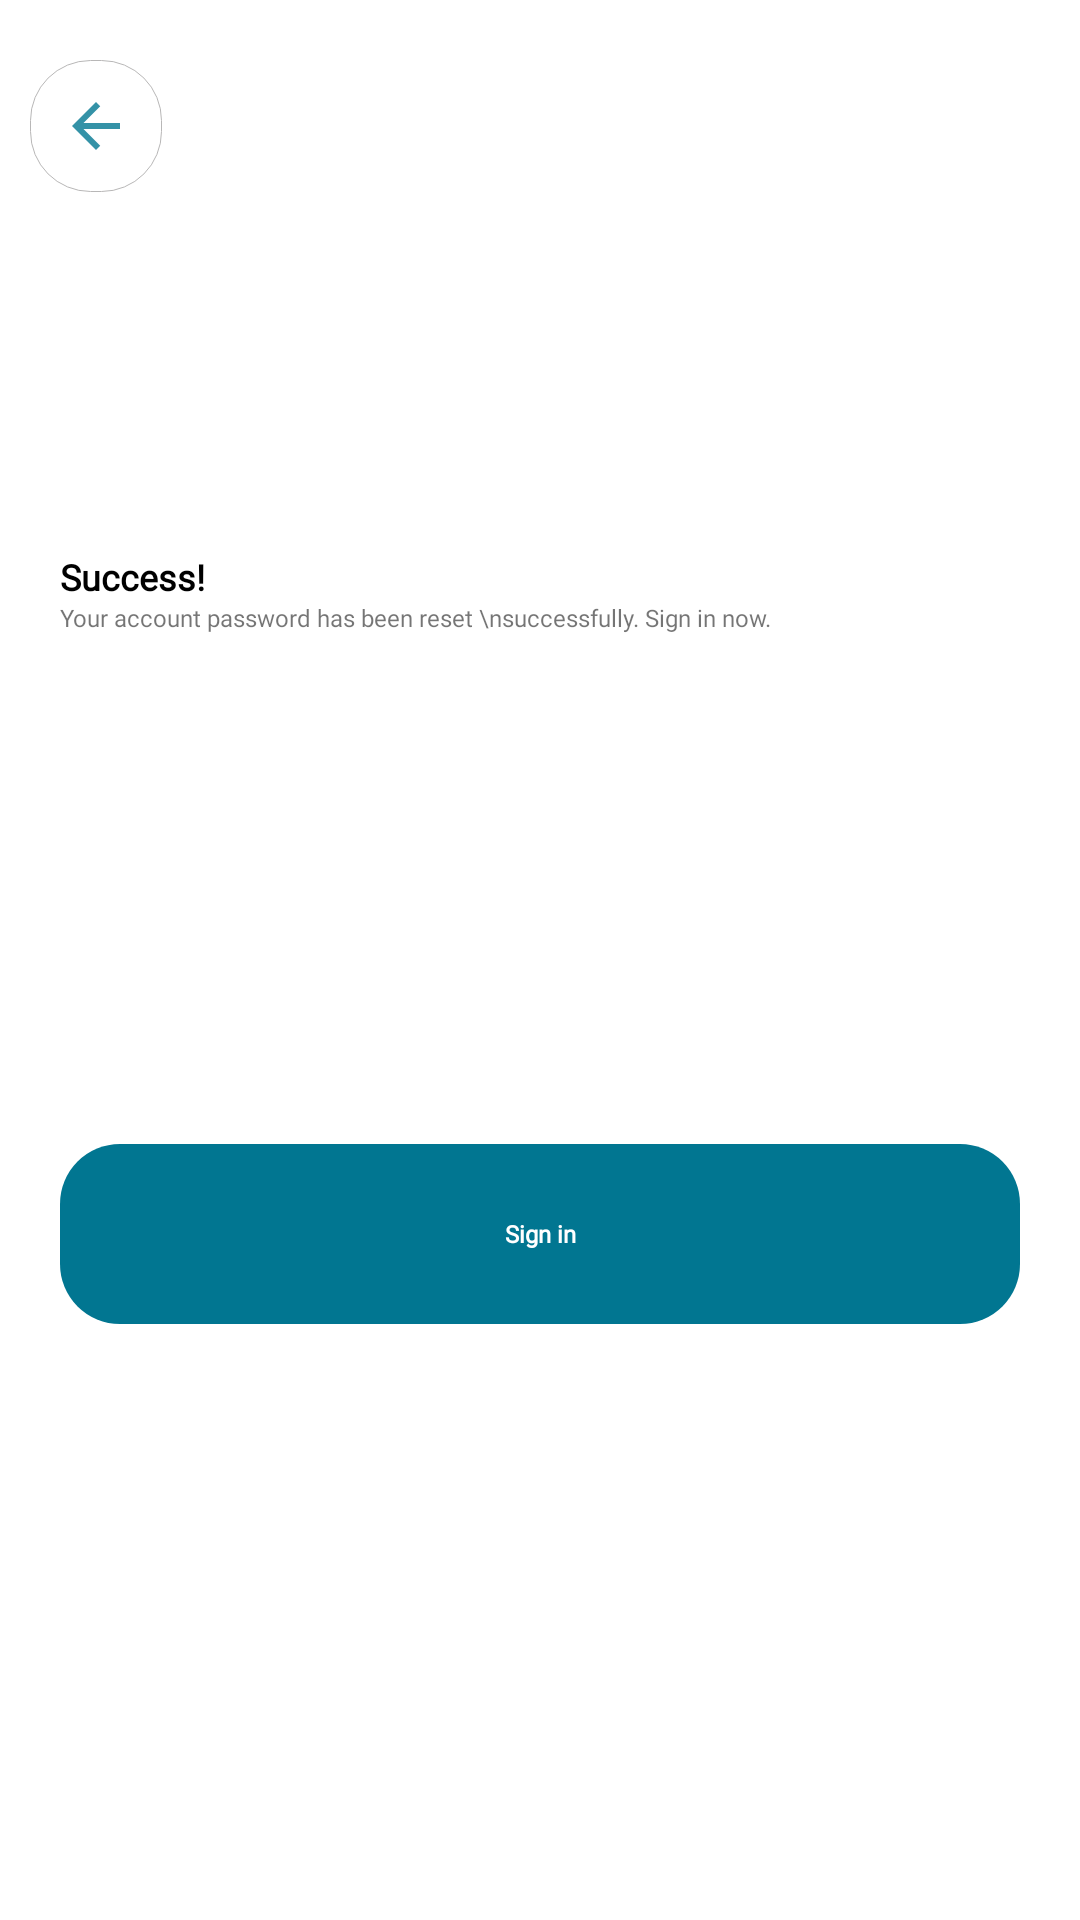

Screen size 1080*1920. Icon name, then its center in pixels as point (x, y):
arrow back: point (96, 126)
